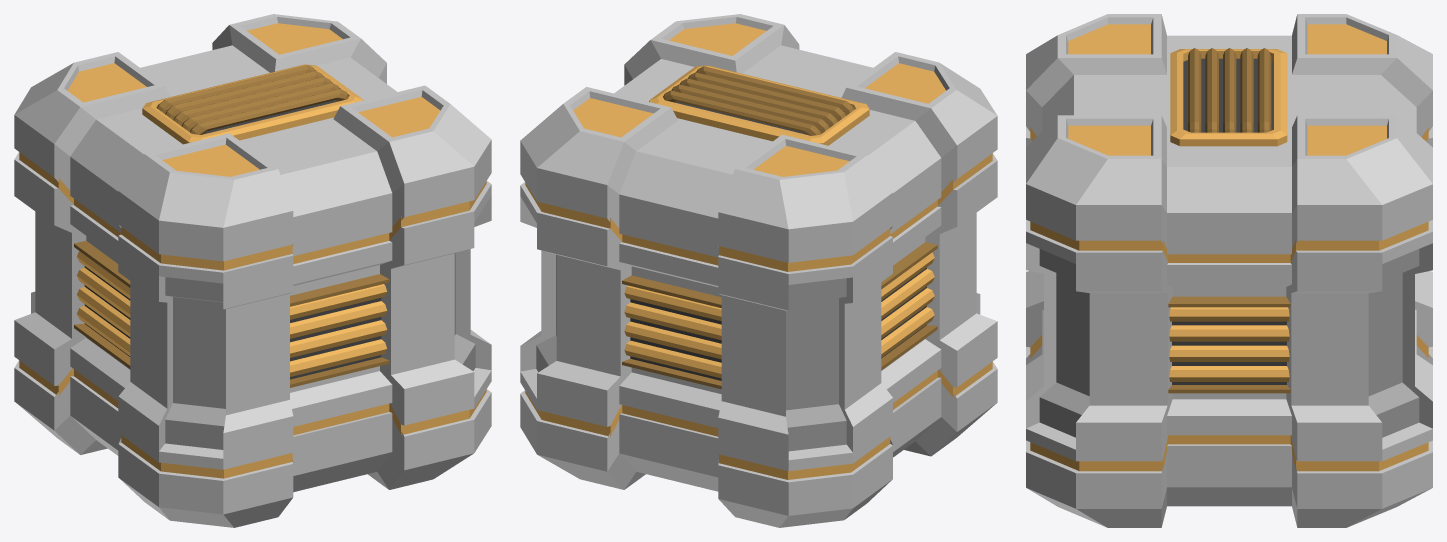
Rendered from sf_crate.glb.
3 renders of one model, left to right at view 1: azimuth 30°, elevation 25°; view 2: azimuth 150°, elevation 25°; view 3: azimuth 270°, elevation 25°, orthographic. The views are drawn at different scales.
Parts seen in each view (by area): view 1: Props_Crate; view 2: Props_Crate; view 3: Props_Crate.
Part boxes in pixels (box(x1,y1,x2,y2)): Props_Crate: box(14, 14, 491, 527); Props_Crate: box(520, 14, 997, 527); Props_Crate: box(1026, 14, 1432, 527).
Size of the model in its own units: 0.7971 by 0.8055 by 0.7971.
